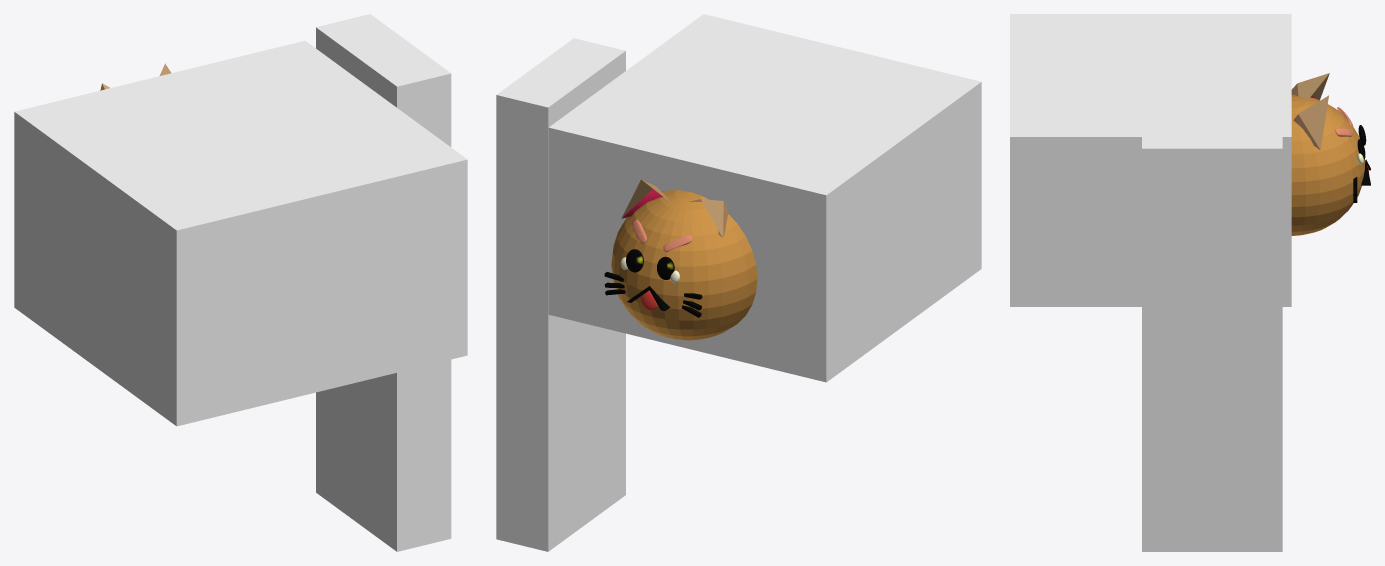
Rendered from playerFlag.obj.
The picture shows the model from 3 angles, left to right: view 1: azimuth 30°, elevation 25°; view 2: azimuth 150°, elevation 25°; view 3: azimuth 270°, elevation 25°; orthographic projection. The views are drawn at different scales.
Parts seen in each view (by area): view 1: earR.004; view 2: earR.004; view 3: earR.004.
Boxes of the visible parts, x1=… form: earR.004: x1=14, y1=14, x2=467, y2=551; earR.004: x1=496, y1=14, x2=981, y2=551; earR.004: x1=1010, y1=14, x2=1370, y2=551.
Bounding box in the file's own units: 0.6687 × 0.8475 × 0.6872.
